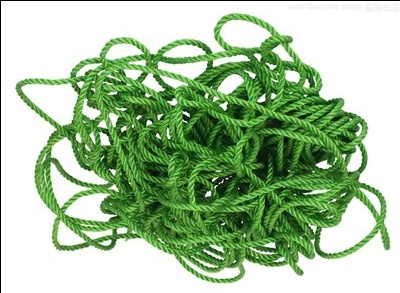9/可回收垃圾/绳子: (14, 12, 392, 283)
